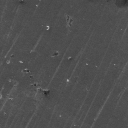corrosion: (50, 50, 60, 59), (42, 88, 51, 96), (23, 68, 30, 74), (67, 56, 72, 61)
